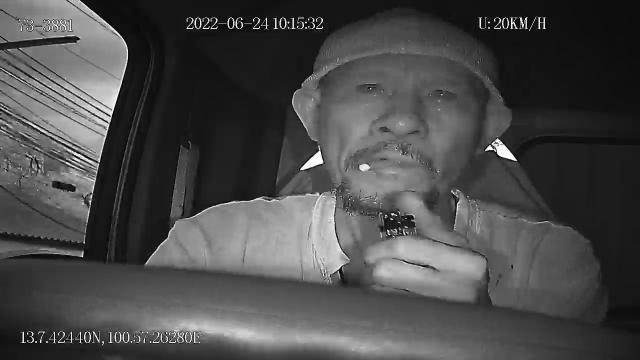SafeDriving: (416, 74, 467, 112), (349, 71, 394, 103)
Smoking: (356, 154, 404, 172)
